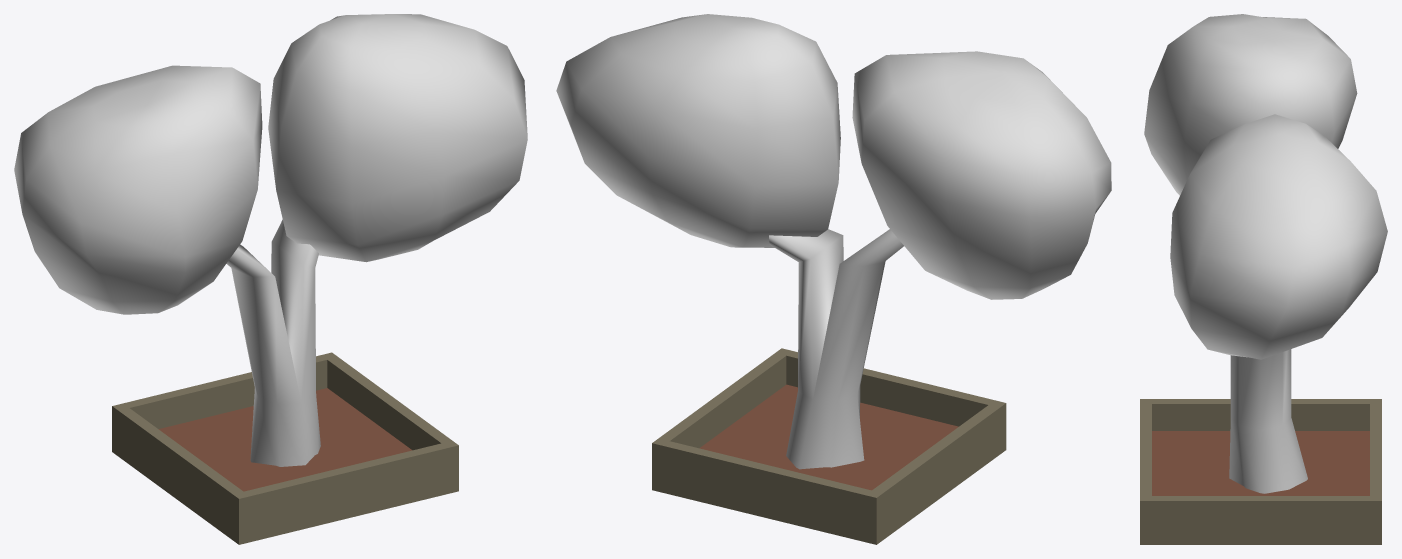
Rendered from Oaktree2.fbx.
The picture shows the model from 3 angles, left to right: view 1: azimuth 30°, elevation 25°; view 2: azimuth 150°, elevation 25°; view 3: azimuth 270°, elevation 25°; orthographic projection. The views are drawn at different scales.
Parts seen in each view (by area): view 1: OakTree2; view 2: OakTree2; view 3: OakTree2.
Part boxes in pixels (left/top/right/bottom): OakTree2: left=14, top=14, right=527, bottom=544; OakTree2: left=556, top=14, right=1111, bottom=544; OakTree2: left=1140, top=14, right=1387, bottom=544.
Bounding box in the file's own units: 478 × 373 × 209.
